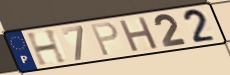2: (182, 6, 222, 46), (154, 12, 189, 49)
7: (60, 25, 86, 62)
H: (24, 28, 70, 68), (117, 15, 161, 54)
P: (89, 21, 121, 58)
